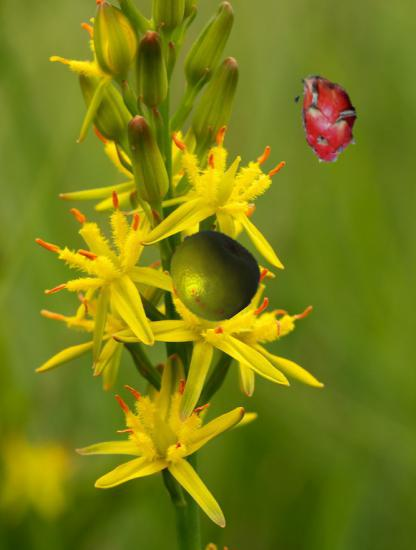Pitahaya: (280, 72, 372, 164)
Pomelo: (167, 227, 261, 321)
